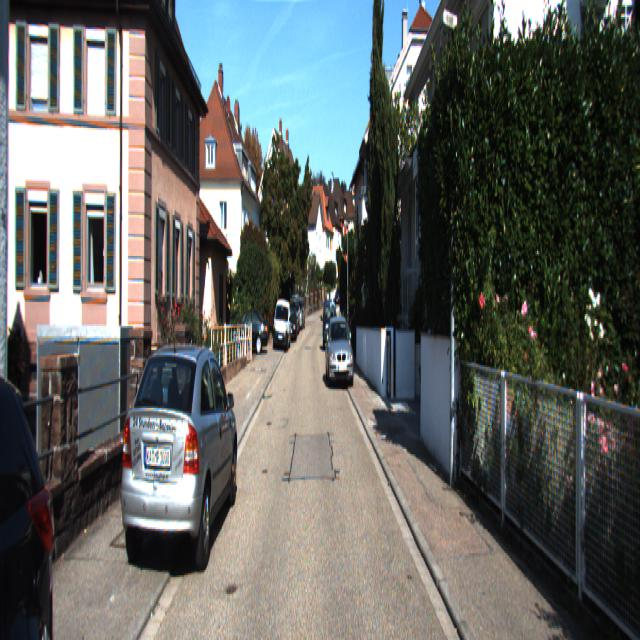Car: (0, 287, 92, 638), (117, 336, 242, 586), (326, 316, 354, 392), (272, 300, 292, 355), (323, 299, 337, 350)
